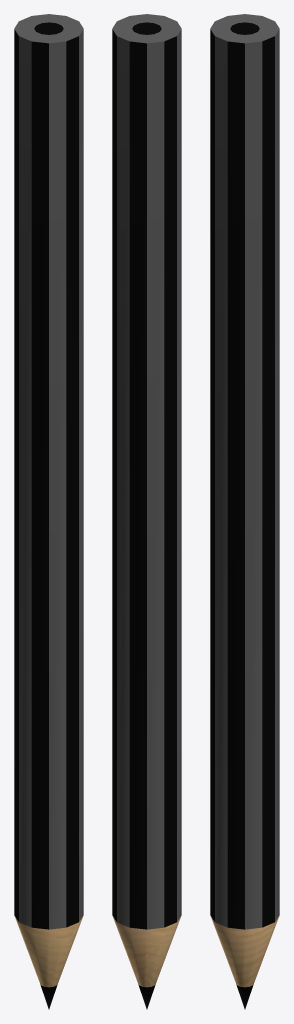
The model's file is pencil.fbx.
3 views of the same model, side by side, from view 1: azimuth 90°, elevation 25°; view 2: azimuth 150°, elevation 25°; view 3: azimuth 270°, elevation 25° (orthographic).
Visible parts, largest first — view 1: pencil; view 2: pencil; view 3: pencil.
Boxes of the visible parts, x1,y1,x2,y2 form: pencil: [14, 14, 83, 1009]; pencil: [112, 14, 181, 1009]; pencil: [210, 14, 279, 1009].
Size of the model in its own units: 4.6 by 71.58 by 4.6.
3 materials, 1 textured.
